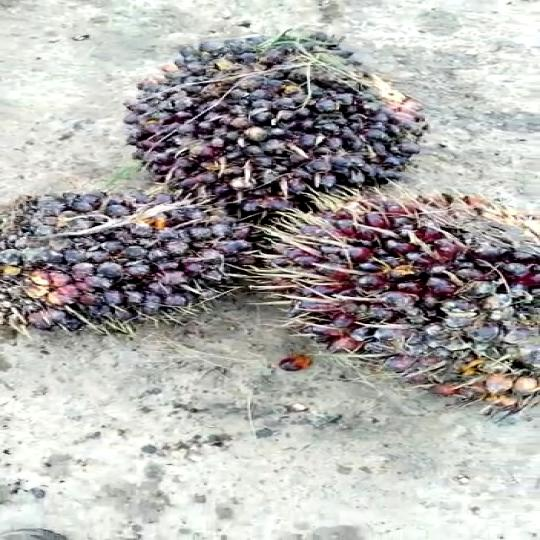kurang masak: (260, 188, 540, 443), (111, 30, 424, 200), (0, 164, 248, 336)
